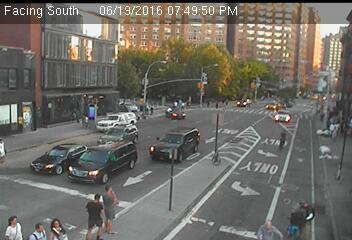neg: (284, 193, 315, 235), (259, 210, 279, 237), (272, 126, 292, 151), (35, 14, 54, 39), (251, 33, 267, 55), (325, 95, 341, 116), (202, 28, 217, 47), (138, 24, 152, 44), (35, 71, 49, 90), (289, 48, 303, 66), (326, 30, 340, 48), (106, 6, 119, 24), (100, 78, 113, 95), (247, 5, 260, 22), (295, 10, 308, 27), (76, 5, 88, 21), (176, 8, 188, 24), (326, 67, 337, 83), (186, 50, 197, 65), (213, 8, 224, 22), (86, 37, 94, 48), (221, 63, 228, 73), (164, 51, 169, 58)
pos: (94, 183, 129, 230), (73, 192, 106, 235), (1, 210, 22, 238), (48, 215, 66, 238), (30, 217, 45, 237), (147, 102, 157, 116), (203, 97, 212, 108), (213, 100, 220, 109)
